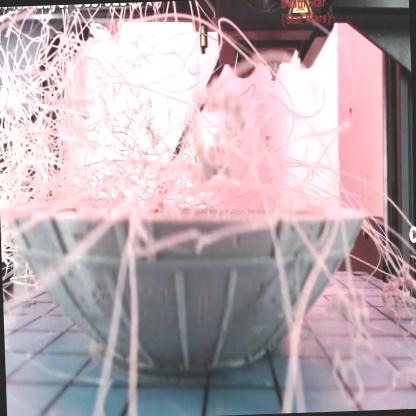fail: (1, 14, 198, 217)
